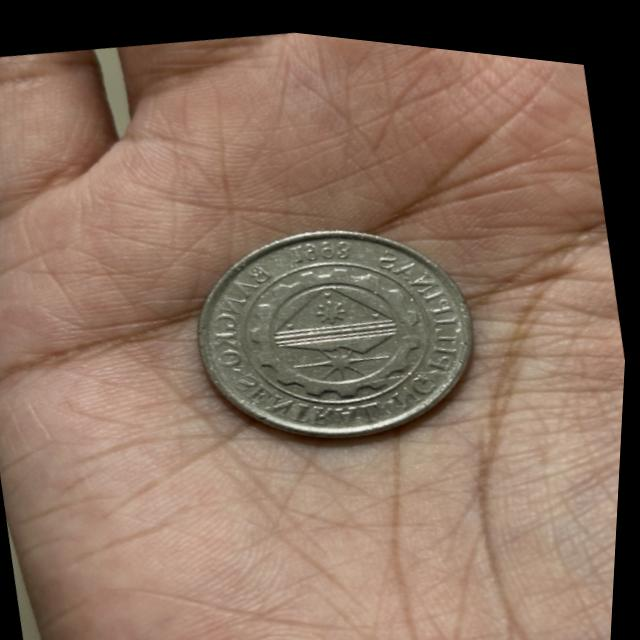1_Old_Back: (220, 219, 460, 428)
